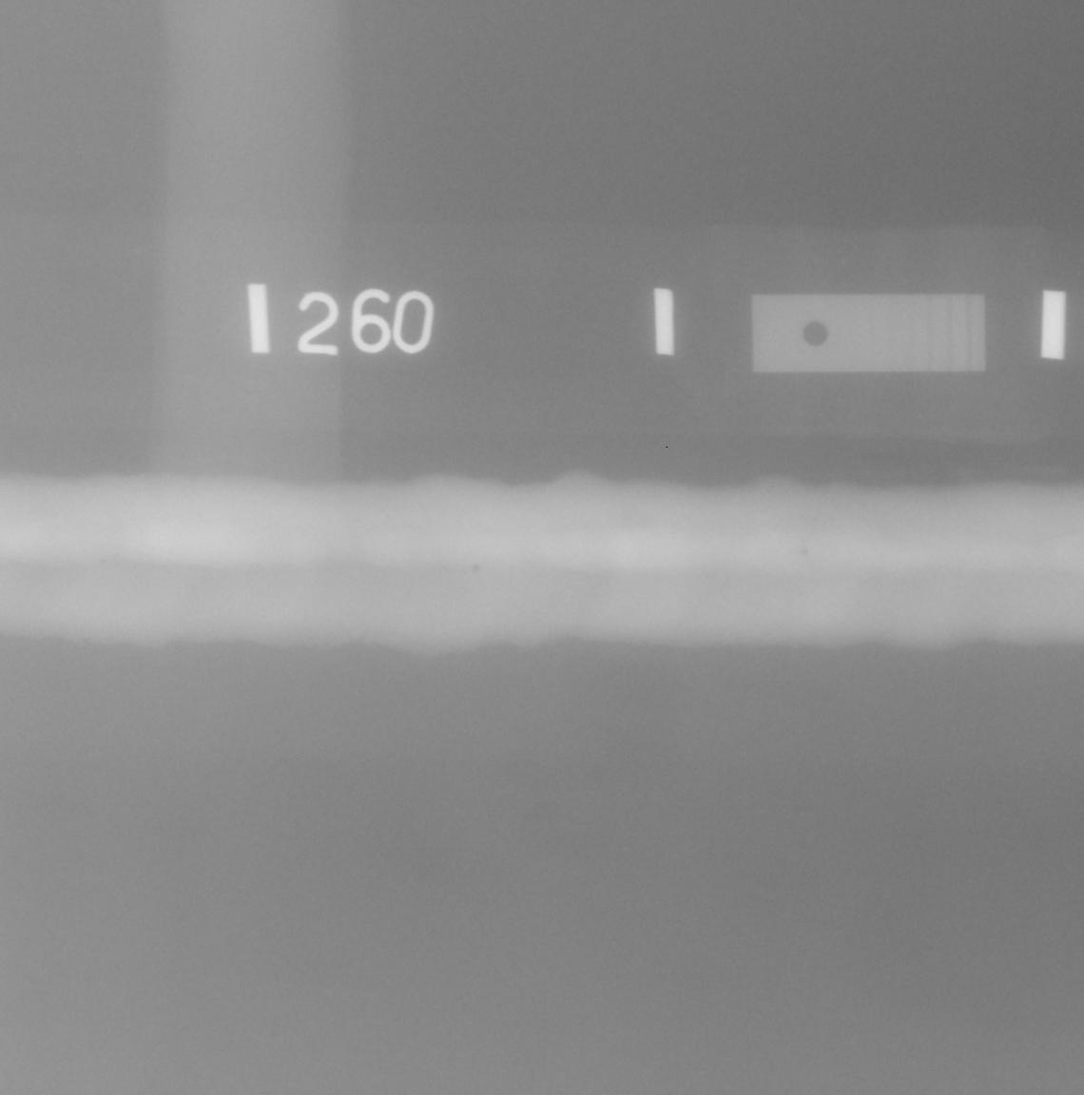Pore/Porosity: (473, 564, 479, 572), (801, 549, 807, 555), (101, 560, 105, 564)
Reference Standard 1: (751, 294, 986, 372)
